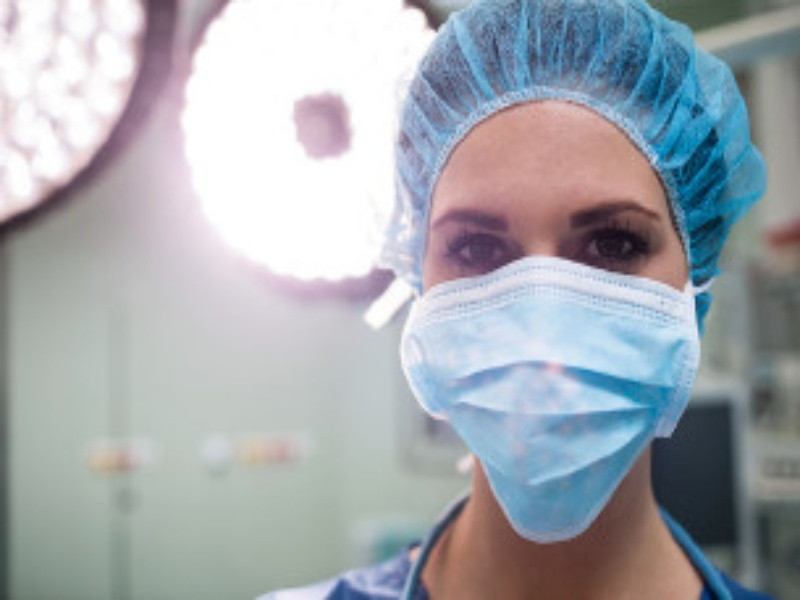mask: (378, 5, 769, 504)
